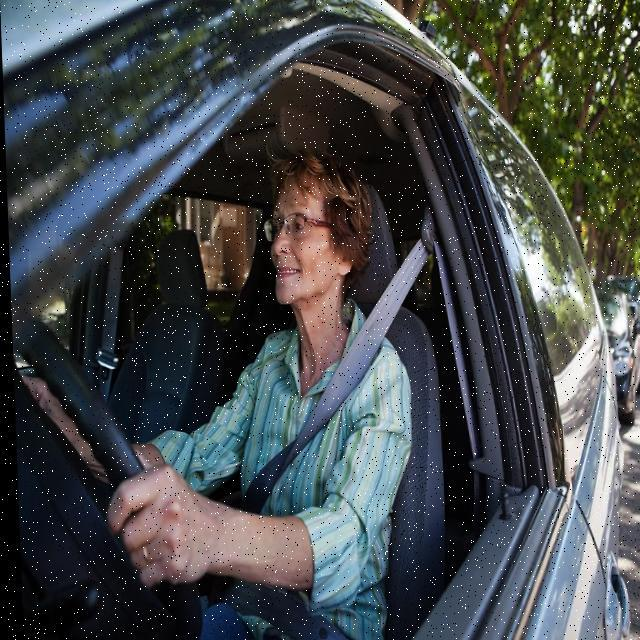seatbelt: (246, 270, 414, 619)
